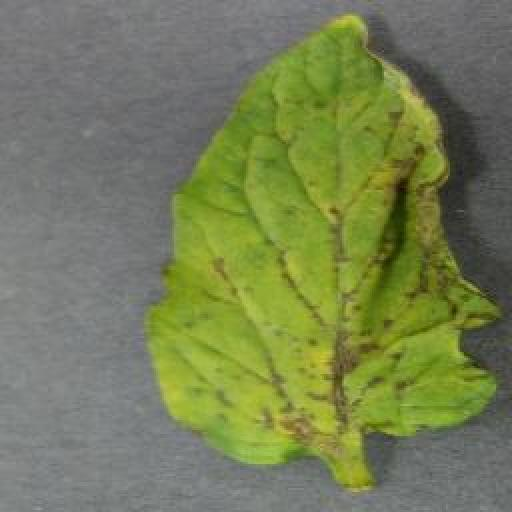Bacterial Spot: (136, 11, 507, 469)
